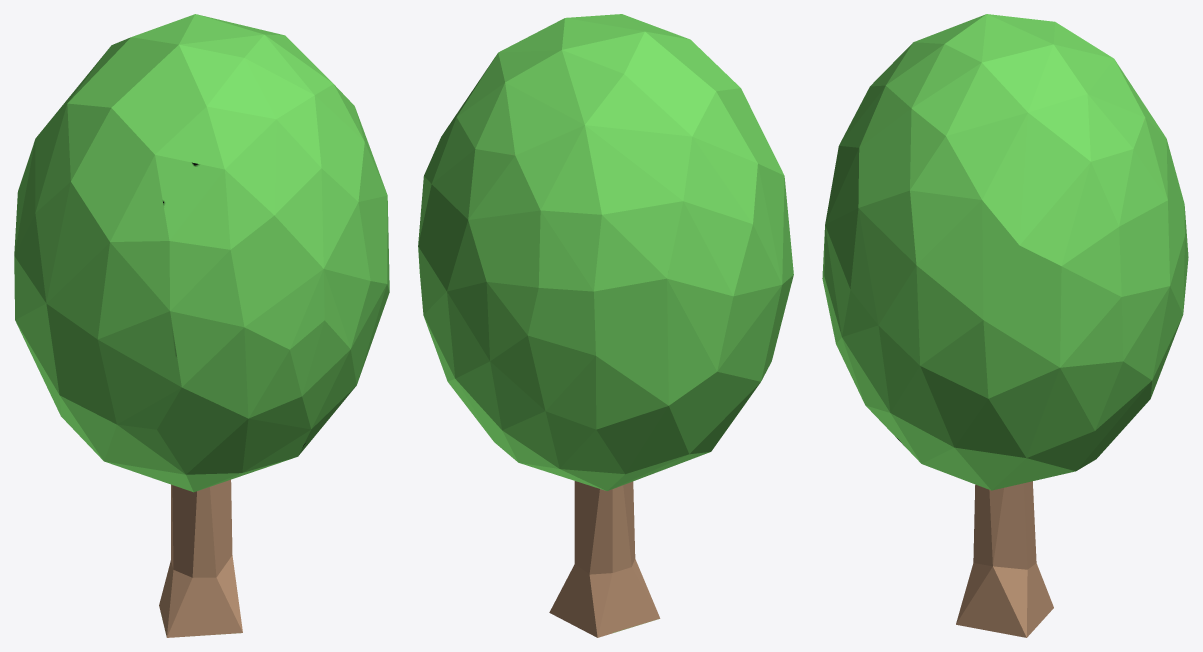
Rendered from TREE #4.fbx.
The picture shows the model from 3 angles, left to right: view 1: azimuth 30°, elevation 25°; view 2: azimuth 150°, elevation 25°; view 3: azimuth 270°, elevation 25°; orthographic projection.
Parts seen in each view (by area): view 1: four; view 2: four; view 3: four.
Part boxes in pixels (x1=…): four: x1=14, y1=14, x2=389, y2=637; four: x1=418, y1=14, x2=793, y2=637; four: x1=822, y1=14, x2=1188, y2=637.
Size of the model in its own units: 804 by 1357 by 767.
1 material, 1 textured.
